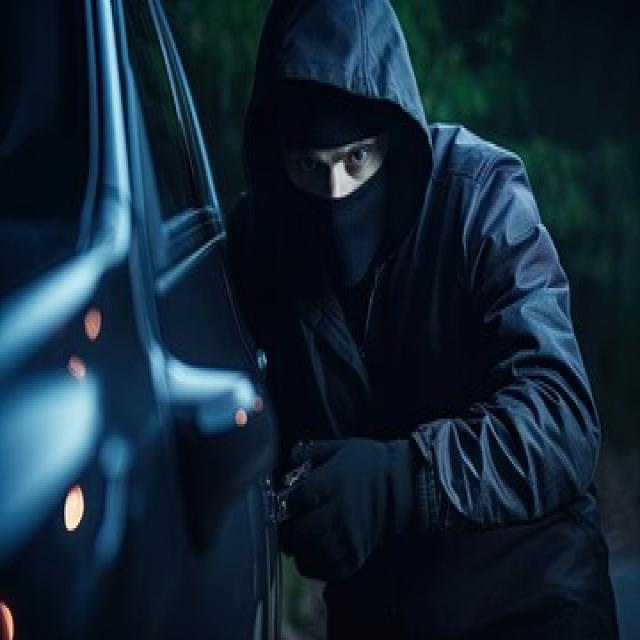handguns: (220, 1, 618, 639)
normal-behavior: (2, 0, 638, 638), (1, 2, 412, 636), (0, 2, 287, 637)
sharp-edged-weapons: (1, 1, 632, 615)
